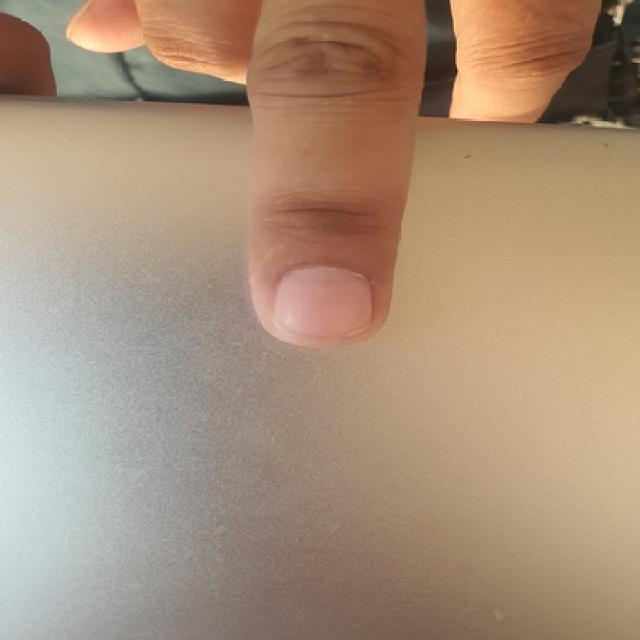Nail: (275, 268, 372, 339)
